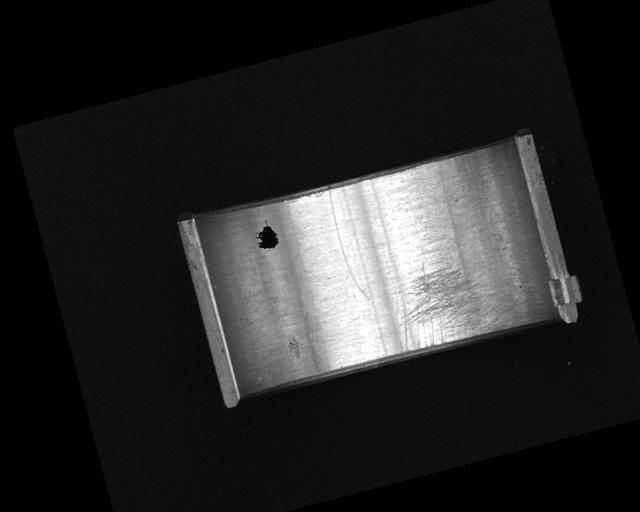blot: (252, 217, 281, 253)
bruise: (285, 334, 304, 361)
nick: (324, 184, 371, 305)
scratch: (383, 245, 512, 358)
